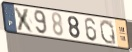6: (84, 17, 98, 44)
8: (50, 12, 64, 38), (67, 16, 82, 40)
9: (33, 9, 49, 36)
Q: (99, 19, 117, 46)
X: (13, 6, 36, 35)
